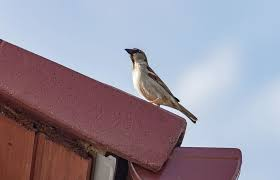hsparrow: (122, 44, 202, 125)
